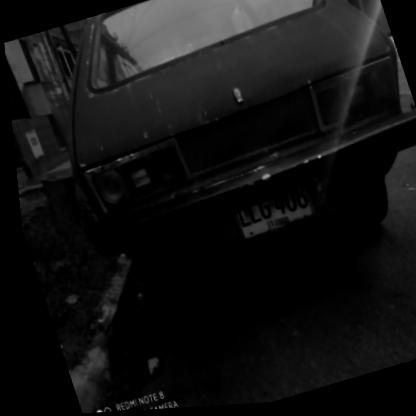placa: (220, 179, 315, 246)
